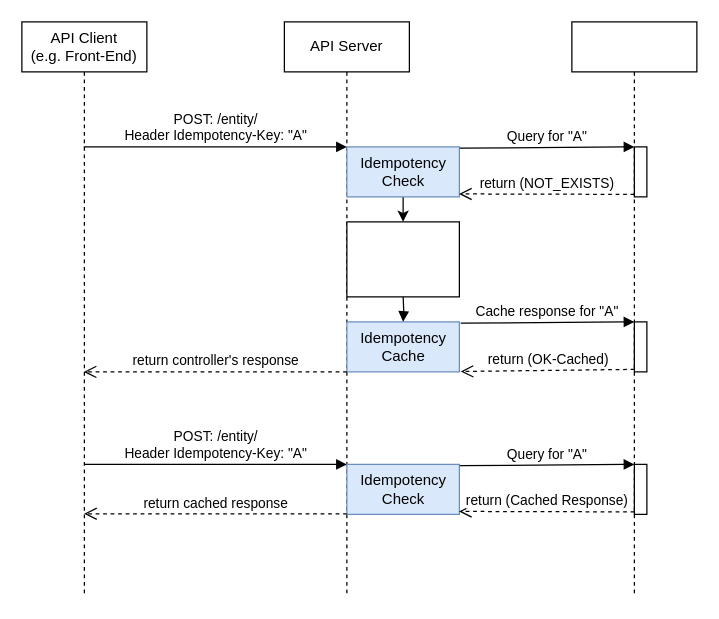
The diagram is 719 pixels wide and 619 high, and some of its shapes have lost their labels. The centre of each missing label's shape, as x and y in pixels:
"Controller Execution (POST: /entity/)" goes at [402,259].
"Persistent Storage" goes at [634,309].
